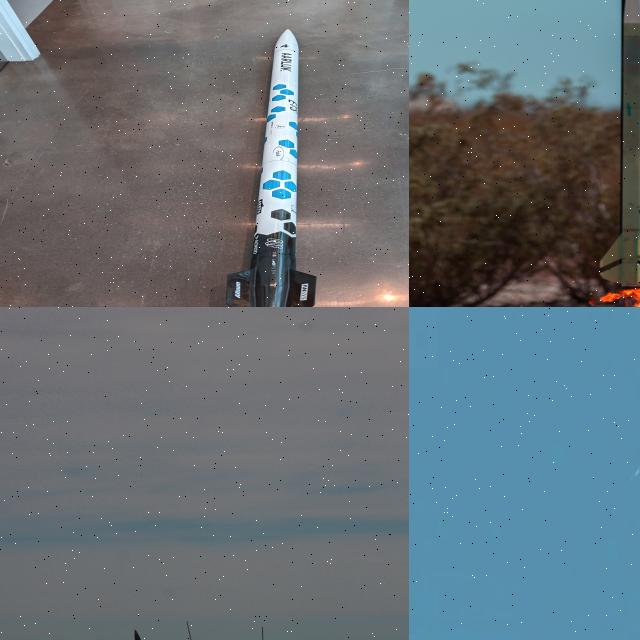Rocket: (225, 28, 317, 307), (600, 0, 640, 289), (634, 468, 640, 476)
